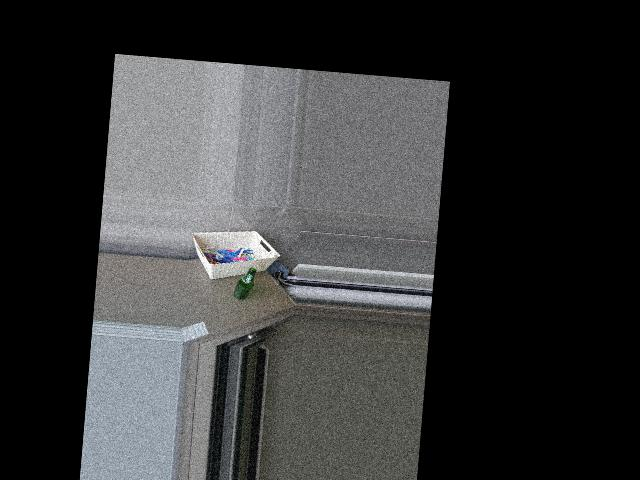beer: (233, 266, 256, 300)
